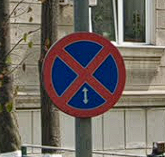oprirea_interzisa: (41, 32, 126, 118)
